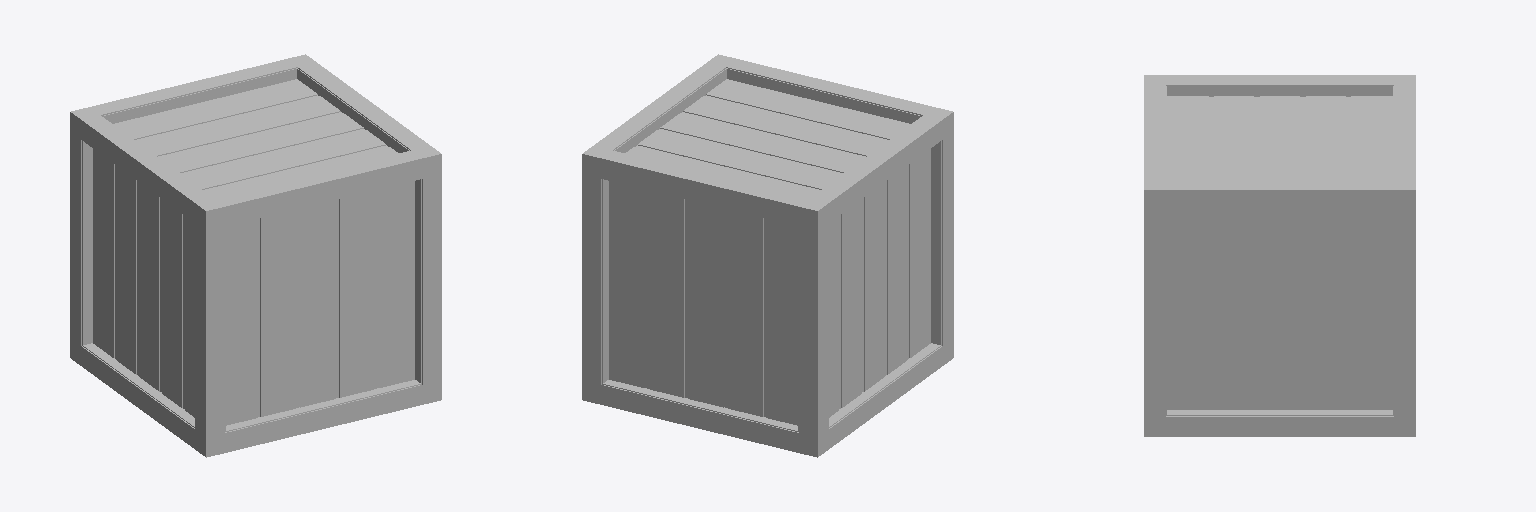
The model's file is crate.obj.
3 renders of one model, left to right at view 1: azimuth 30°, elevation 25°; view 2: azimuth 150°, elevation 25°; view 3: azimuth 270°, elevation 25°, orthographic.
Visible parts, largest first — view 1: high_poly_Cube.001, low_poly_Cube; view 2: high_poly_Cube.001, low_poly_Cube; view 3: high_poly_Cube.001, low_poly_Cube.
Part boxes in pixels (left/top/right/bottom): high_poly_Cube.001: left=70, top=54, right=441, bottom=457; low_poly_Cube: left=82, top=68, right=421, bottom=431; high_poly_Cube.001: left=582, top=54, right=953, bottom=457; low_poly_Cube: left=602, top=68, right=941, bottom=431; high_poly_Cube.001: left=1144, top=75, right=1415, bottom=436; low_poly_Cube: left=1166, top=86, right=1393, bottom=415.
Bounding box in the file's own units: 1.01 × 1.01 × 1.01.